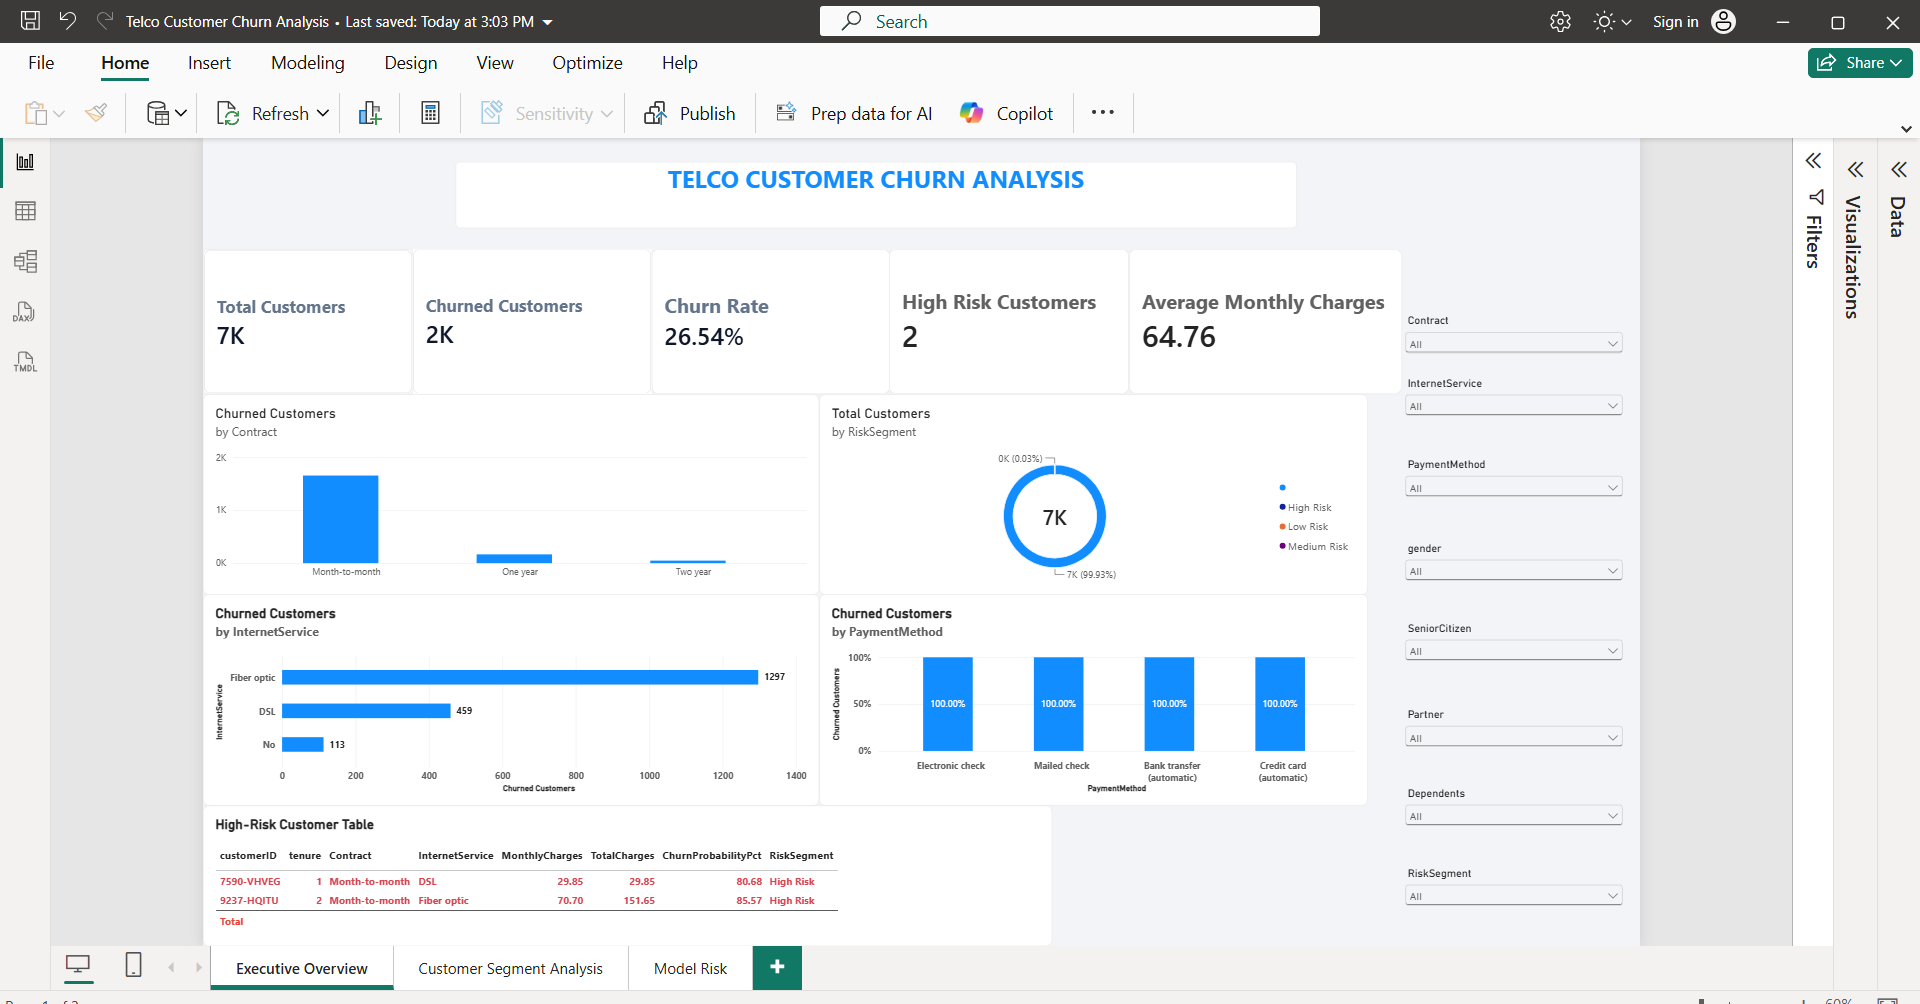

What the dashboard file says about the page in this screenshot:
{"tool":"powerbi","page":{"name":"Executive Overview","canvas":[1920,1080],"ordinal":0},"visuals":[{"type":"cardVisual","fields":{"Data":["WA_Fn-UseC_-Telco-Customer-Churn.Total Customers"]},"box":[0,148.4,280.5,193.6],"z":0},{"type":"cardVisual","fields":{"Data":["WA_Fn-UseC_-Telco-Customer-Churn.Churned Customers"]},"box":[280.5,148.4,318.5,193.6],"z":1000},{"type":"cardVisual","fields":{"Data":["WA_Fn-UseC_-Telco-Customer-Churn.High Risk Customers"]},"box":[917.5,148.4,320.3,193.6],"z":2000},{"type":"cardVisual","fields":{"Data":["WA_Fn-UseC_-Telco-Customer-Churn.Churn Rate"]},"box":[599,148.4,318.5,193.6],"z":3000},{"type":"cardVisual","fields":{"Data":["WA_Fn-UseC_-Telco-Customer-Churn.Average Monthly Charges ="]},"box":[1237.8,150.2,363.7,193.6],"z":4000},{"type":"clusteredColumnChart","fields":{"Category":["WA_Fn-UseC_-Telco-Customer-Churn.Contract"],"Y":["WA_Fn-UseC_-Telco-Customer-Churn.Churned Customers"]},"box":[0,342,823.4,267.8],"z":5000},{"type":"barChart","fields":{"Category":["WA_Fn-UseC_-Telco-Customer-Churn.InternetService"],"Y":["WA_Fn-UseC_-Telco-Customer-Churn.Churned Customers"]},"box":[0,609.9,823.4,282.3],"z":6000},{"type":"hundredPercentStackedColumnChart","fields":{"Category":["WA_Fn-UseC_-Telco-Customer-Churn.PaymentMethod"],"Y":["WA_Fn-UseC_-Telco-Customer-Churn.Churned Customers"]},"box":[823.4,609.9,732.9,282.3],"z":7000},{"type":"donutChart","fields":{"Category":["WA_Fn-UseC_-Telco-Customer-Churn.RiskSegment"],"Y":["WA_Fn-UseC_-Telco-Customer-Churn.Total Customers"]},"box":[823.4,342,732.9,267.8],"z":8000},{"type":"tableEx","title":"High-Risk Customer Table","fields":{"Values":["WA_Fn-UseC_-Telco-Customer-Churn.customerID","Sum(WA_Fn-UseC_-Telco-Customer-Churn.tenure)","WA_Fn-UseC_-Telco-Customer-Churn.Contract","WA_Fn-UseC_-Telco-Customer-Churn.InternetService","Sum(WA_Fn-UseC_-Telco-Customer-Churn.MonthlyCharges)","Sum(WA_Fn-UseC_-Telco-Customer-Churn.TotalCharges)","Sum(WA_Fn-UseC_-Telco-Customer-Churn.ChurnProbabilityPct)","WA_Fn-UseC_-Telco-Customer-Churn.RiskSegment"]},"box":[0,892.2,1134.7,188.2],"z":9000},{"type":"slicer","fields":{"Values":["WA_Fn-UseC_-Telco-Customer-Churn.Contract"]},"box":[1601.5,235.3,300.4,83.2],"z":10000},{"type":"slicer","fields":{"Values":["WA_Fn-UseC_-Telco-Customer-Churn.InternetService"]},"box":[1601.5,318.5,300.4,79.6],"z":11000},{"type":"slicer","fields":{"Values":["WA_Fn-UseC_-Telco-Customer-Churn.PaymentMethod"]},"box":[1601.5,427.1,300.4,76],"z":12000},{"type":"slicer","fields":{"Values":["WA_Fn-UseC_-Telco-Customer-Churn.gender"]},"box":[1601.5,539.3,300.4,70.6],"z":13000},{"type":"slicer","fields":{"Values":["WA_Fn-UseC_-Telco-Customer-Churn.SeniorCitizen"]},"box":[1601.5,646,300.4,67],"z":14000},{"type":"slicer","fields":{"Values":["WA_Fn-UseC_-Telco-Customer-Churn.Partner"]},"box":[1601.5,761.9,300.4,77.8],"z":15000},{"type":"slicer","fields":{"Values":["WA_Fn-UseC_-Telco-Customer-Churn.Dependents"]},"box":[1601.5,866.8,300.4,77.8],"z":16000},{"type":"slicer","fields":{"Values":["WA_Fn-UseC_-Telco-Customer-Churn.RiskSegment"]},"box":[1601.5,973.6,300.4,83.2],"z":17000},{"type":"textbox","box":[336.6,27.1,1123.8,88.7],"z":18000}]}

Visuals, with their boxes on the page's 1920x1080 design canvas (x1, y1, x2, y2). These are canvas units, not pixel positions in the 1920x1004 screenshot, which may show the page scaled, cropped or inside an application window:
cardVisual - WA_Fn-UseC_-Telco-Customer-Churn.Total Customers: (left=0, top=148, right=280, bottom=342)
cardVisual - WA_Fn-UseC_-Telco-Customer-Churn.Churned Customers: (left=280, top=148, right=599, bottom=342)
cardVisual - WA_Fn-UseC_-Telco-Customer-Churn.High Risk Customers: (left=918, top=148, right=1238, bottom=342)
cardVisual - WA_Fn-UseC_-Telco-Customer-Churn.Churn Rate: (left=599, top=148, right=918, bottom=342)
cardVisual - WA_Fn-UseC_-Telco-Customer-Churn.Average Monthly Charges =: (left=1238, top=150, right=1602, bottom=344)
clusteredColumnChart - WA_Fn-UseC_-Telco-Customer-Churn.Contract x WA_Fn-UseC_-Telco-Customer-Churn.Churned Customers: (left=0, top=342, right=823, bottom=610)
barChart - WA_Fn-UseC_-Telco-Customer-Churn.InternetService x WA_Fn-UseC_-Telco-Customer-Churn.Churned Customers: (left=0, top=610, right=823, bottom=892)
hundredPercentStackedColumnChart - WA_Fn-UseC_-Telco-Customer-Churn.PaymentMethod x WA_Fn-UseC_-Telco-Customer-Churn.Churned Customers: (left=823, top=610, right=1556, bottom=892)
donutChart - WA_Fn-UseC_-Telco-Customer-Churn.RiskSegment x WA_Fn-UseC_-Telco-Customer-Churn.Total Customers: (left=823, top=342, right=1556, bottom=610)
"High-Risk Customer Table" tableEx: (left=0, top=892, right=1135, bottom=1080)
slicer - WA_Fn-UseC_-Telco-Customer-Churn.Contract: (left=1602, top=235, right=1902, bottom=318)
slicer - WA_Fn-UseC_-Telco-Customer-Churn.InternetService: (left=1602, top=318, right=1902, bottom=398)
slicer - WA_Fn-UseC_-Telco-Customer-Churn.PaymentMethod: (left=1602, top=427, right=1902, bottom=503)
slicer - WA_Fn-UseC_-Telco-Customer-Churn.gender: (left=1602, top=539, right=1902, bottom=610)
slicer - WA_Fn-UseC_-Telco-Customer-Churn.SeniorCitizen: (left=1602, top=646, right=1902, bottom=713)
slicer - WA_Fn-UseC_-Telco-Customer-Churn.Partner: (left=1602, top=762, right=1902, bottom=840)
slicer - WA_Fn-UseC_-Telco-Customer-Churn.Dependents: (left=1602, top=867, right=1902, bottom=945)
slicer - WA_Fn-UseC_-Telco-Customer-Churn.RiskSegment: (left=1602, top=974, right=1902, bottom=1057)
textbox: (left=337, top=27, right=1460, bottom=116)
